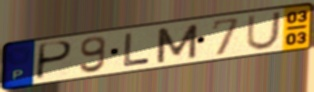7: (212, 15, 242, 57)
9: (78, 35, 108, 75)
L: (122, 31, 152, 69)
M: (154, 22, 200, 65)
P: (34, 40, 75, 82)
U: (244, 10, 284, 52)
